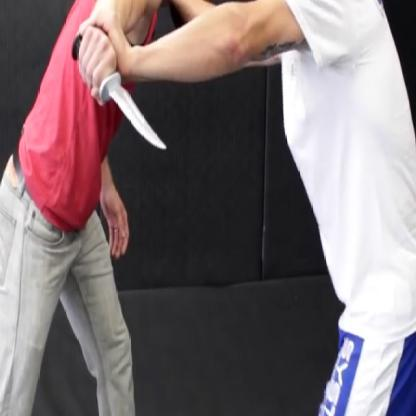knife: (67, 20, 172, 164)
